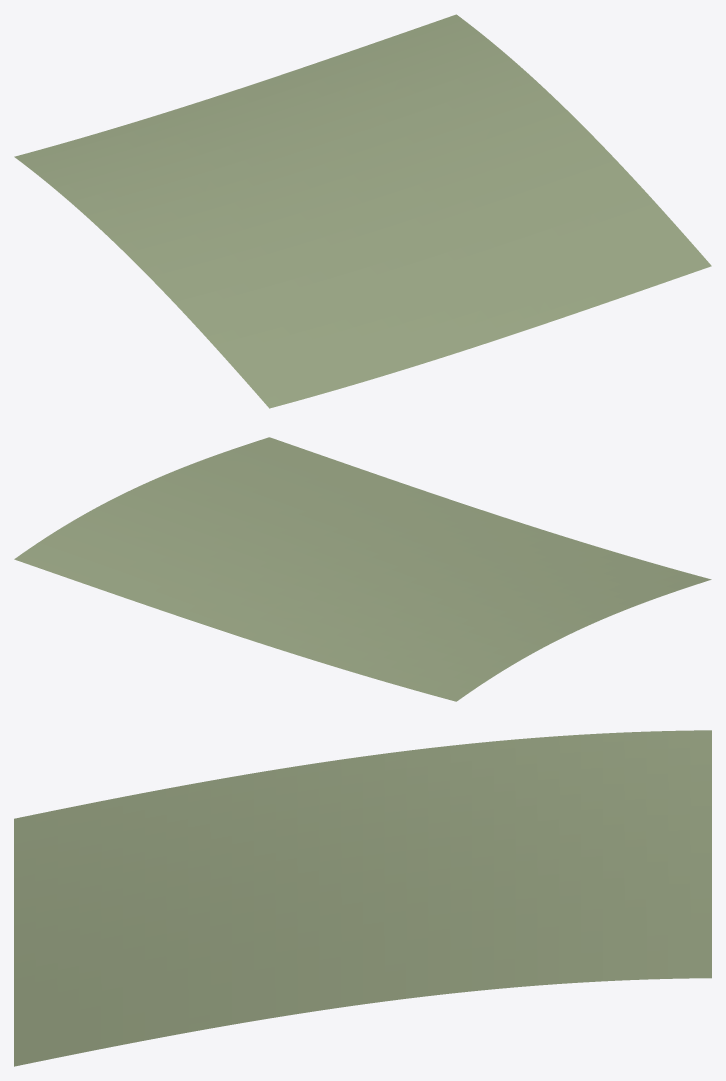
The model's file is valley-9-1.glb.
The picture shows the model from 3 angles, top to bottom: view 1: azimuth 30°, elevation 25°; view 2: azimuth 150°, elevation 25°; view 3: azimuth 270°, elevation 25°; orthographic projection. The views are drawn at different scales.
Visible parts, largest first — view 1: valley-9-1; view 2: valley-9-1; view 3: valley-9-1.
Boxes of the visible parts, x1=… form: valley-9-1: x1=14, y1=14, x2=711, y2=408; valley-9-1: x1=14, y1=437, x2=711, y2=701; valley-9-1: x1=14, y1=730, x2=711, y2=1066.
Size of the model in its own units: 256 by 54.84 by 256.
